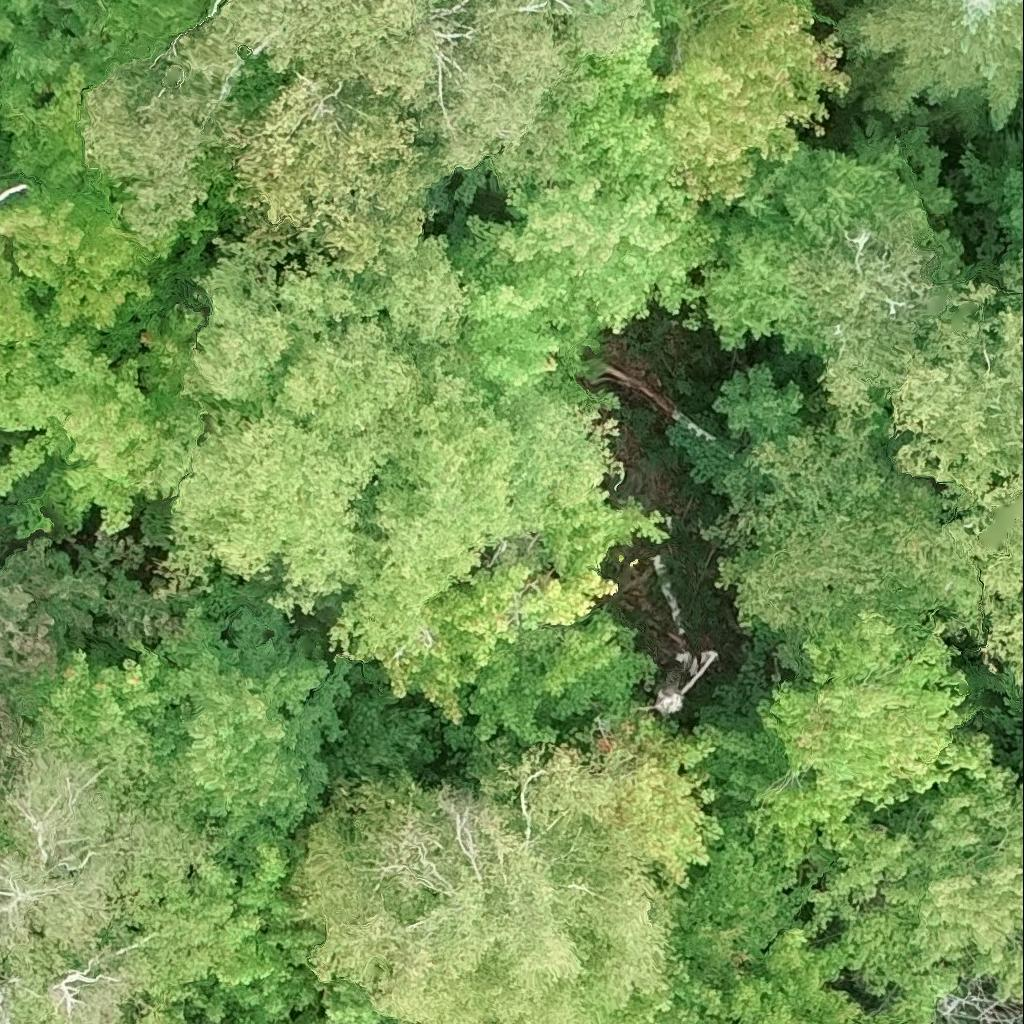crown: (455, 2, 738, 393), (298, 744, 675, 1023), (151, 319, 490, 617), (79, 0, 454, 242), (672, 367, 949, 669), (330, 376, 620, 664), (384, 506, 673, 779), (790, 219, 1023, 527), (0, 63, 236, 357), (0, 721, 233, 1015), (668, 722, 894, 1007), (0, 230, 208, 537), (701, 128, 966, 357), (131, 585, 353, 836), (809, 769, 1023, 1023), (182, 229, 475, 414), (220, 67, 456, 280), (760, 610, 994, 811), (413, 0, 645, 187), (662, 0, 850, 203), (189, 805, 328, 1023), (0, 526, 176, 688), (0, 0, 224, 118), (0, 647, 196, 775), (836, 0, 1023, 126), (939, 465, 1023, 691), (720, 929, 904, 1023), (0, 942, 182, 1023), (602, 936, 722, 1023), (964, 136, 1023, 257), (324, 975, 421, 1023), (216, 1009, 271, 1023), (0, 185, 28, 199), (0, 527, 3, 554), (206, 1019, 214, 1023), (1022, 72, 1023, 77)
